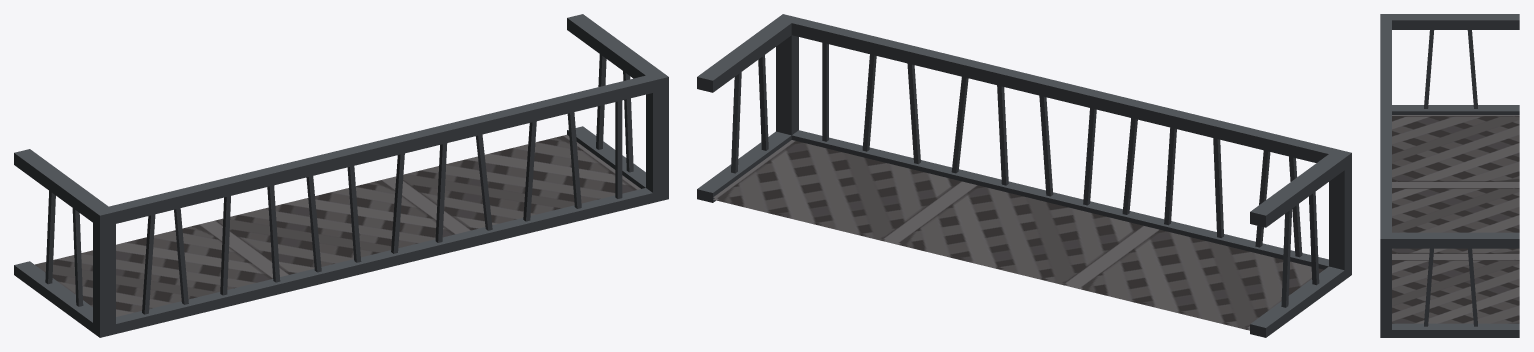
Rendered from Balcony_F1.fbx.
3 views of the same model, side by side, from view 1: azimuth 30°, elevation 25°; view 2: azimuth 150°, elevation 25°; view 3: azimuth 270°, elevation 25° (orthographic). The views are drawn at different scales.
Visible parts, largest first — view 1: Balcony_F1; view 2: Balcony_F1; view 3: Balcony_F1.
Part boxes in pixels (x1=…): Balcony_F1: x1=14, y1=14, x2=668, y2=337; Balcony_F1: x1=697, y1=14, x2=1351, y2=337; Balcony_F1: x1=1380, y1=14, x2=1519, y2=337.
Bounding box in the file's own units: 177 × 36.38 × 46.37.
1 material, 1 textured.
